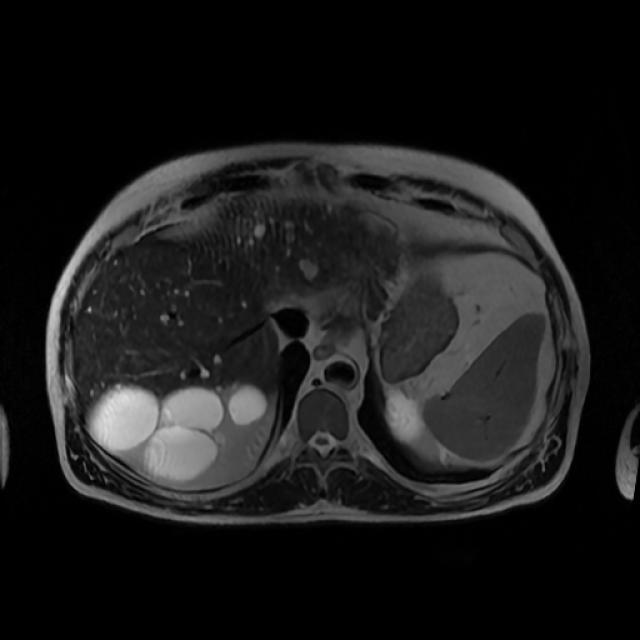sag: (92, 383, 267, 479)
sol: (386, 393, 420, 440)
